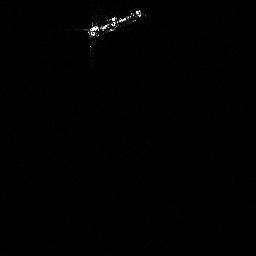ship: (87, 9, 143, 36)
